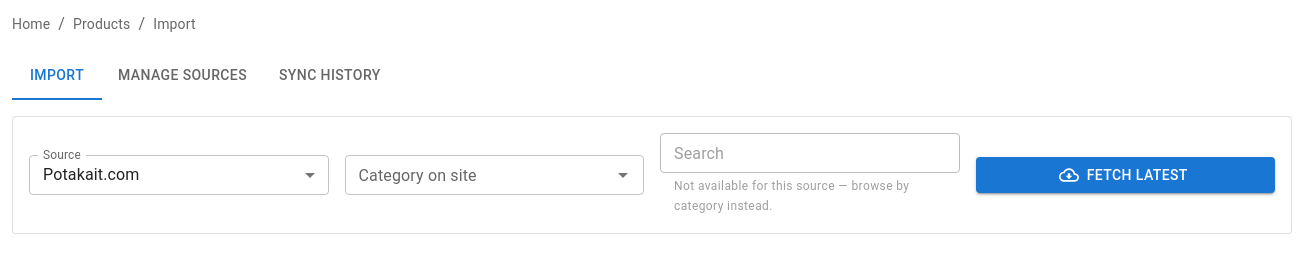
it: Sync History tab › lists past import runs with their counts
This screenshot has width=1304, height=265.
Check: the button "Fetch latest" is enabled, box [976,157,1275,193]
Click the tab "Sync History" at (330, 76), box [263,52,397,100]
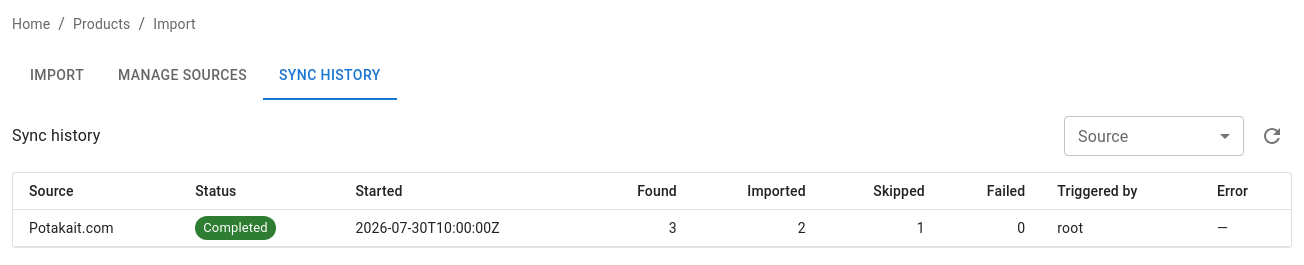
Check: the text "Potakait.com" is shown, box [13,210,179,246]
Check: the text "Completed" is shown, box [203,220,268,235]
Check: the text "root" is shown, box [1041,210,1201,246]
